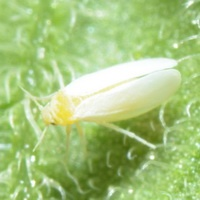insect: (42, 58, 180, 148)
